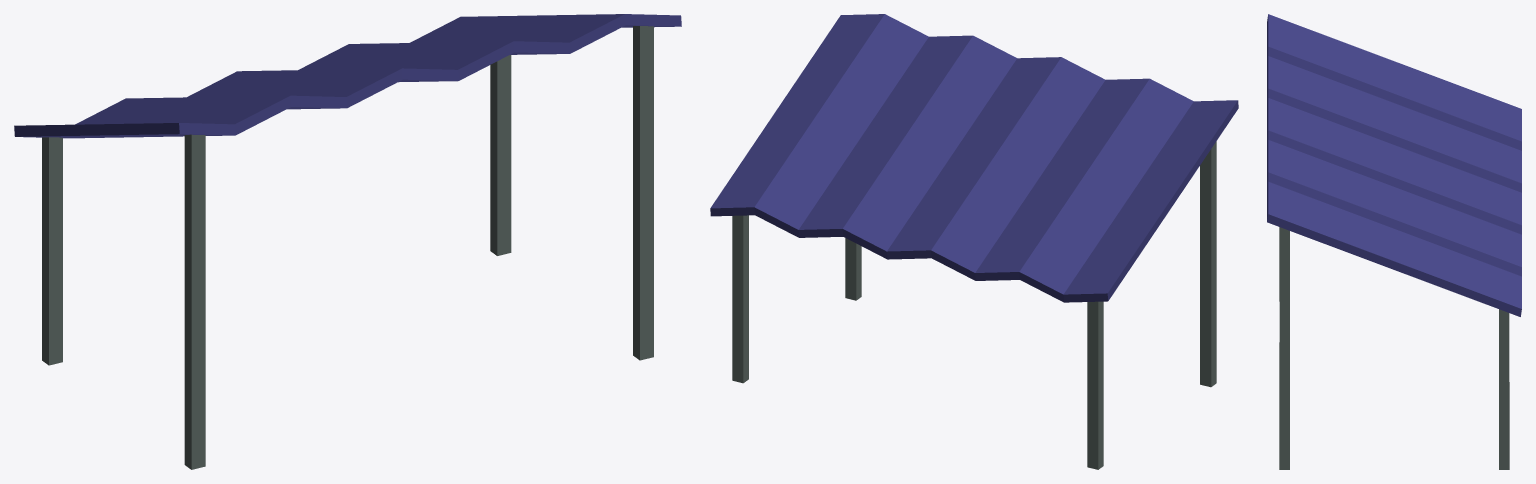
File: PG_Roof.fbx
3 views of the same model, side by side, from view 1: azimuth 30°, elevation 25°; view 2: azimuth 150°, elevation 25°; view 3: azimuth 270°, elevation 25° (orthographic). The views are drawn at different scales.
Visible parts, largest first — view 1: PG_Roof; view 2: PG_Roof; view 3: PG_Roof.
Boxes of the visible parts, x1,y1,x2,y2 form: PG_Roof: (14, 14, 681, 469); PG_Roof: (710, 14, 1238, 469); PG_Roof: (1267, 14, 1521, 469).
Size of the model in its own units: 896 by 609 by 512.
